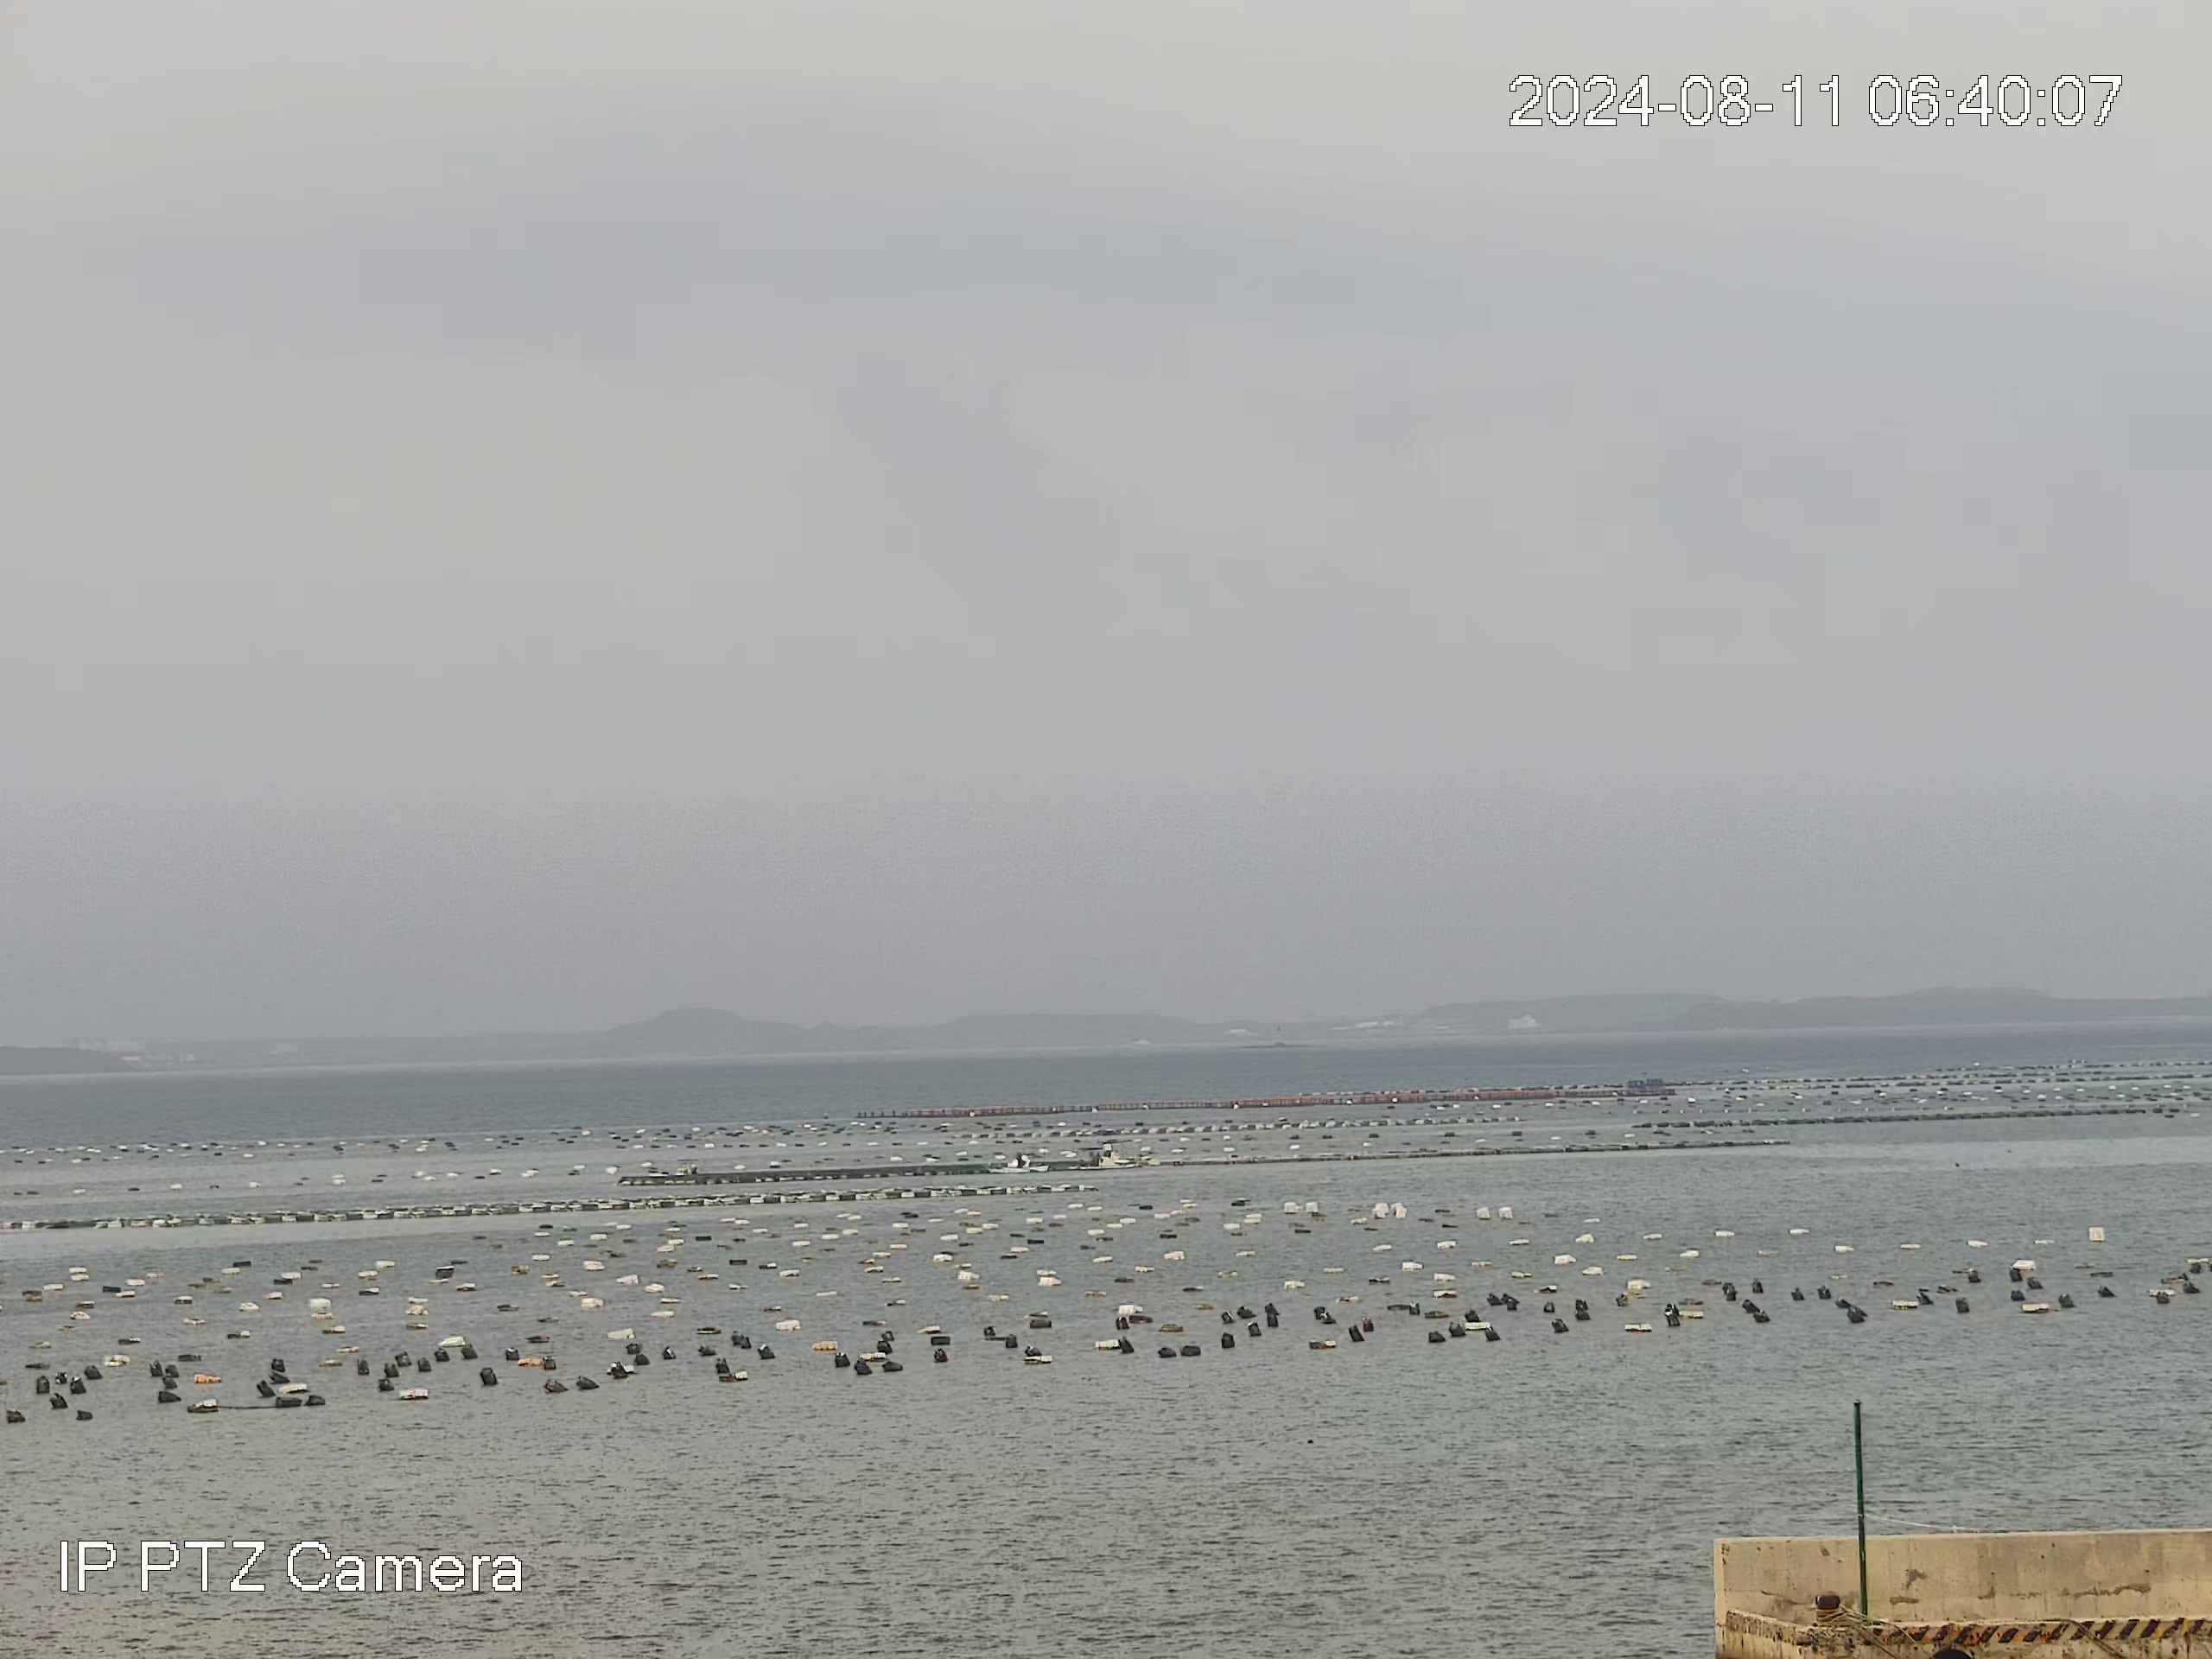boat: (1064, 1143, 1122, 1171), (984, 1154, 1050, 1175)
